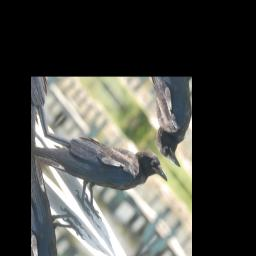Crow: (32, 80, 173, 249)
